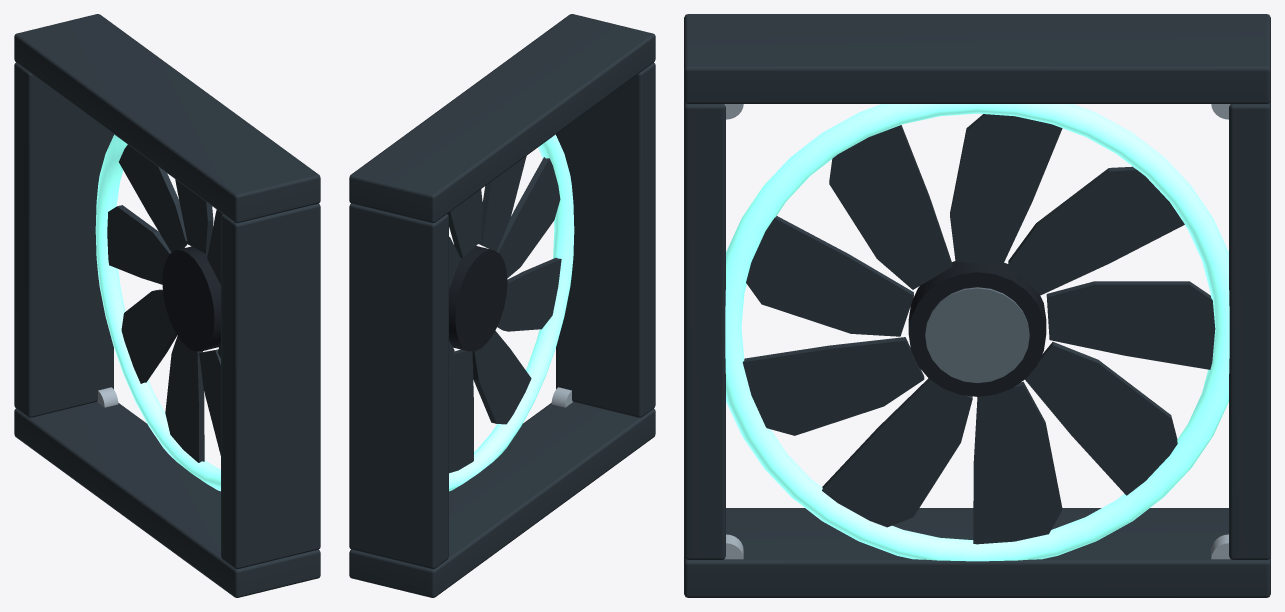
File: front_fan.glb
3 renders of one model, left to right at view 1: azimuth 30°, elevation 25°; view 2: azimuth 150°, elevation 25°; view 3: azimuth 270°, elevation 25°, orthographic. The views are drawn at different scales.
Visible parts, largest first — view 1: front_fan housing, ARGB; view 2: front_fan housing, ARGB; view 3: front_fan housing, ARGB.
Part boxes in pixels (x1,y1,x2,y2): front_fan housing: (14, 14, 320, 597); ARGB: (95, 135, 220, 491); front_fan housing: (349, 14, 655, 597); ARGB: (449, 135, 574, 491); front_fan housing: (684, 14, 1270, 597); ARGB: (725, 104, 1229, 561).
Size of the model in its own units: 25.97 by 112 by 112.
